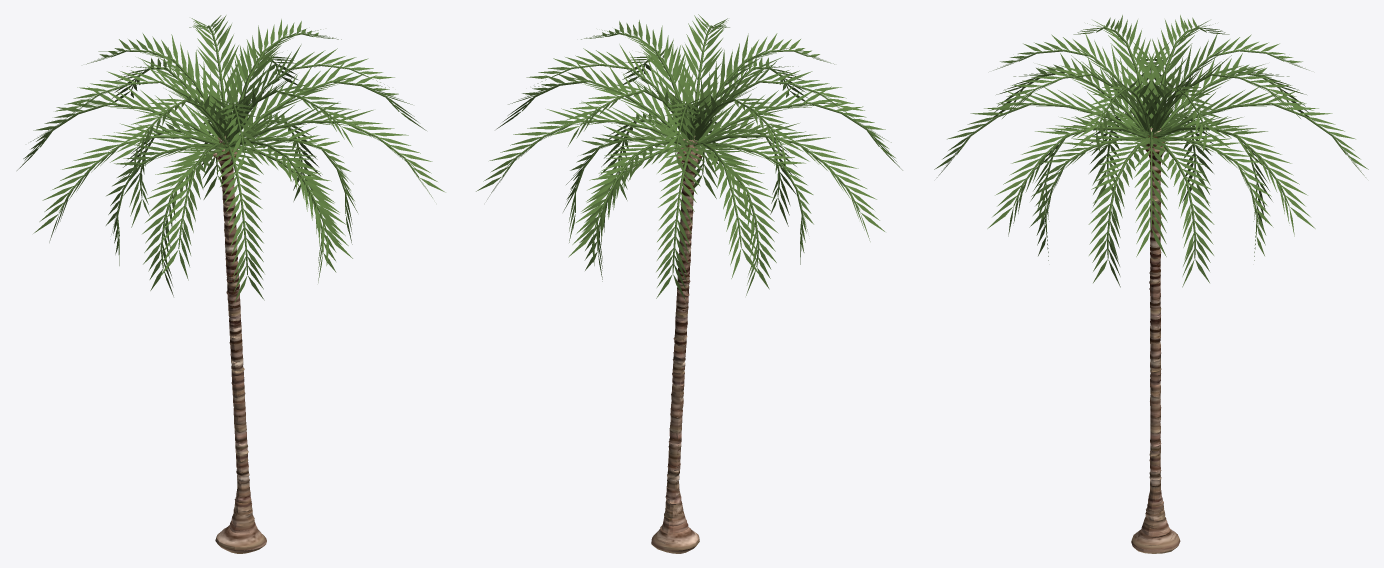
The model's file is tree.obj.
3 renders of one model, left to right at view 1: azimuth 30°, elevation 25°; view 2: azimuth 150°, elevation 25°; view 3: azimuth 270°, elevation 25°, orthographic.
Visible parts, largest first — view 1: objArch31__001, Componente_17_018, Componente_17_029, Componente_17_008, Componente_17_037, Componente_17_027, Componente_17_048, Componente_17_047, Componente_17_041, Componente_17_023, Componente_17_026, Componente_17_046 (+20 smaller); view 2: objArch31__001, Componente_17_030, Componente_17_013, Componente_17_032, Componente_17_001, Componente_17_003, Componente_17_042, Componente_17_004, Componente_17_028, Componente_17_019, Componente_17_010, Componente_17_045 (+20 smaller); view 3: objArch31__001, Componente_17_039, Componente_17_012, Componente_17_017, Componente_17_014, Componente_17_007, Componente_17_002, Componente_17_043, Componente_17_006, Componente_17_046, Componente_17_045, Componente_17_009 (+17 smaller).
Boxes of the visible parts, <box> form: objArch31__001: <box>213,135,266,553</box>; Componente_17_018: <box>237,102,445,192</box>; Componente_17_029: <box>33,118,218,233</box>; Componente_17_008: <box>240,127,352,258</box>; Componente_17_037: <box>142,145,213,290</box>; Componente_17_027: <box>23,86,216,158</box>; Componente_17_048: <box>232,146,264,300</box>; Componente_17_047: <box>212,147,247,302</box>; Componente_17_041: <box>159,138,215,277</box>; Componente_17_023: <box>99,33,224,127</box>; Componente_17_026: <box>220,19,318,125</box>; Componente_17_046: <box>242,63,407,130</box>; objArch31__001: <box>651,136,701,553</box>; Componente_17_030: <box>702,118,884,231</box>; Componente_17_013: <box>476,101,677,191</box>; Componente_17_032: <box>703,144,778,289</box>; Componente_17_001: <box>568,129,679,257</box>; Componente_17_003: <box>656,145,688,298</box>; Componente_17_042: <box>699,85,895,157</box>; Componente_17_004: <box>673,146,707,300</box>; Componente_17_028: <box>705,136,760,276</box>; Componente_17_019: <box>602,20,699,124</box>; Componente_17_010: <box>695,33,819,127</box>; Componente_17_045: <box>514,63,679,129</box>; objArch31__001: <box>1131,128,1180,553</box>; Componente_17_039: <box>1088,136,1143,282</box>; Componente_17_012: <box>1159,136,1214,282</box>; Componente_17_017: <box>987,111,1132,228</box>; Componente_17_014: <box>1170,111,1315,228</box>; Componente_17_007: <box>934,87,1140,169</box>; Componente_17_002: <box>1162,87,1368,169</box>; Componente_17_043: <box>1029,127,1136,255</box>; Componente_17_006: <box>1166,127,1273,255</box>; Componente_17_046: <box>1151,124,1171,256</box>; Componente_17_045: <box>1131,124,1151,256</box>; Componente_17_009: <box>1000,31,1149,116</box>.
Bounding box in the file's own units: 279 × 349 × 279.
